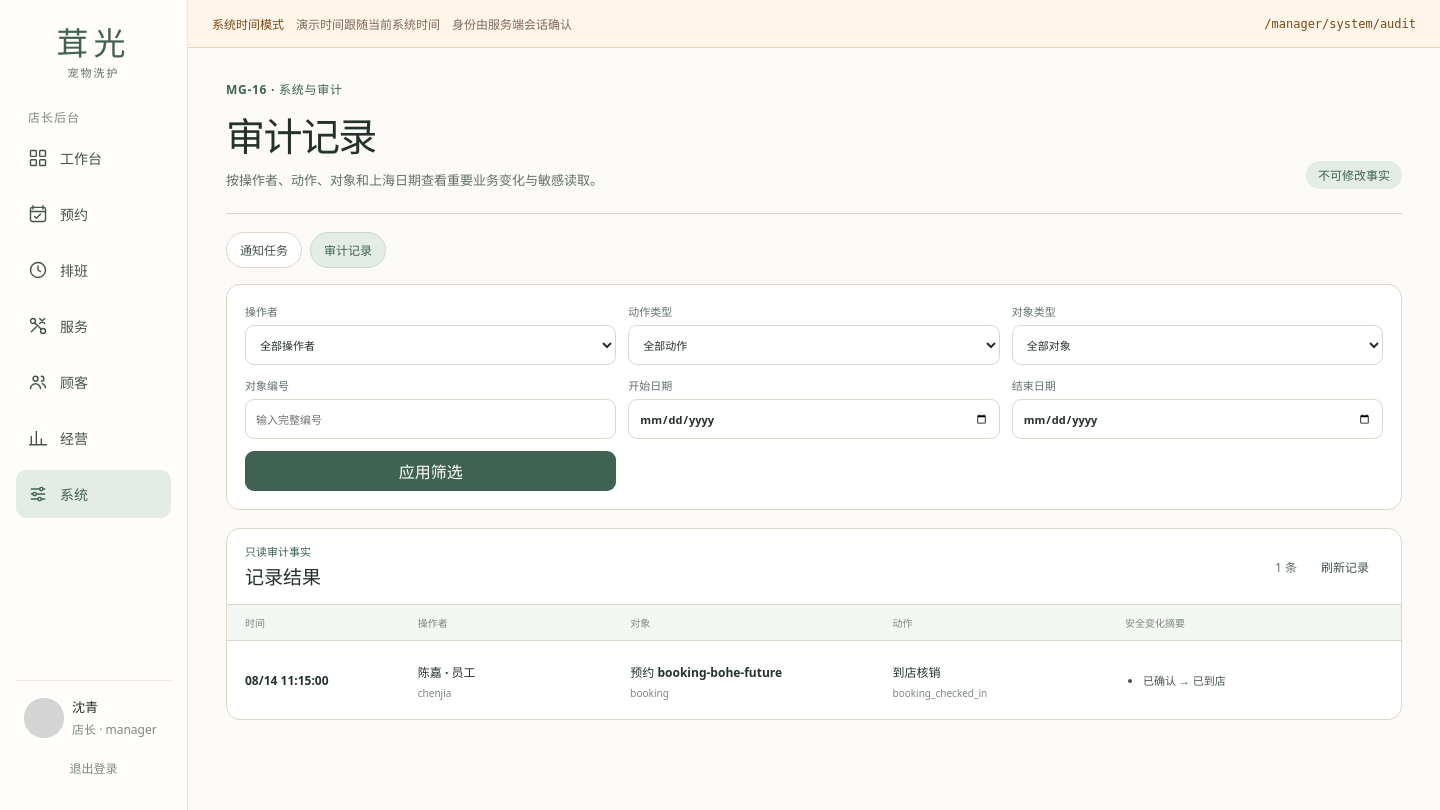
Test: 店长审计记录页面 › 局部刷新失败时保留已读取事实并给出可重试提示
Click the button "刷新记录" at (1345, 566), box left=1307, top=550, right=1383, bottom=584
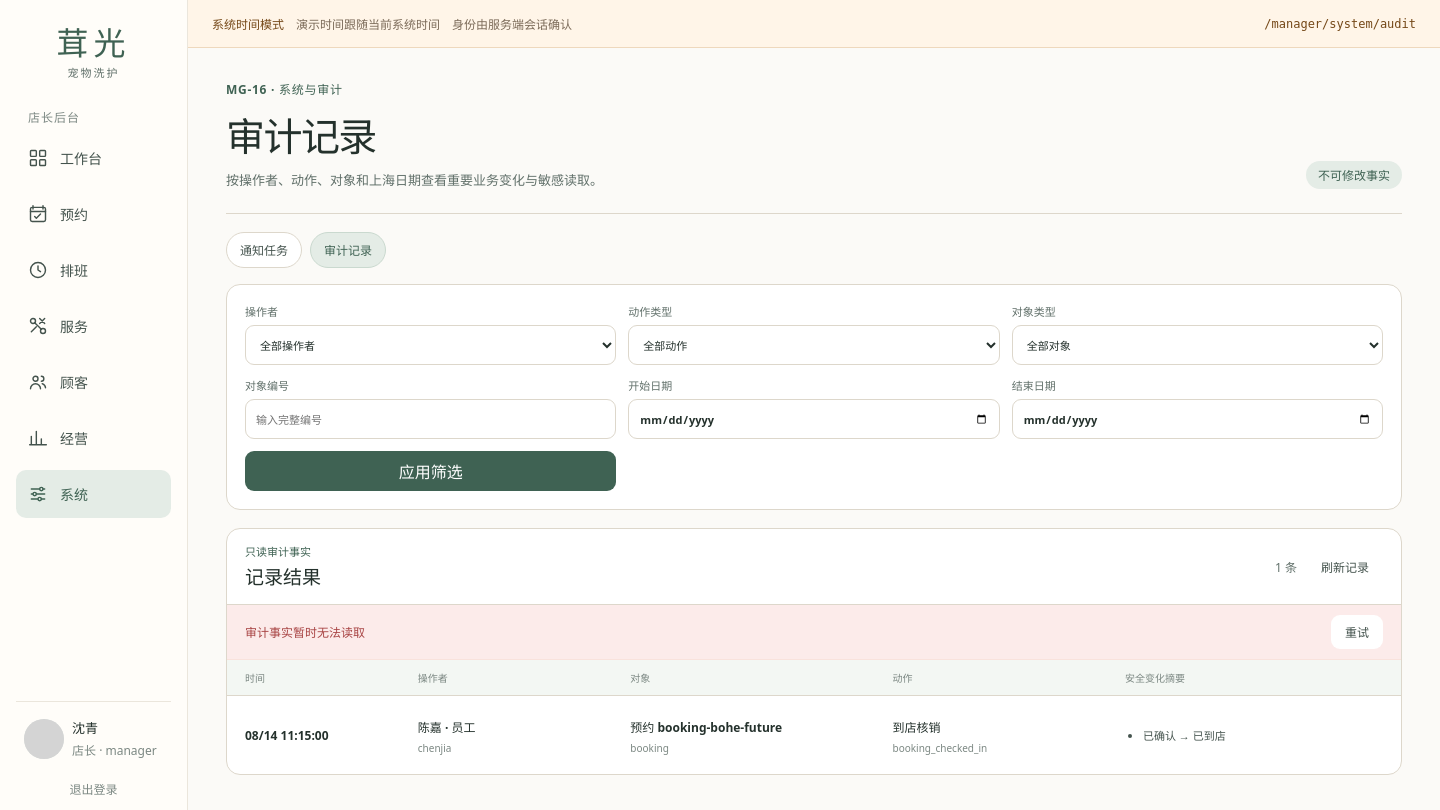
Check: the list item "已确认 → 已到店" is shown, box left=1143, top=728, right=1226, bottom=743
Check: the message shows "审计事实暂时无法读取", box left=245, top=624, right=365, bottom=641
